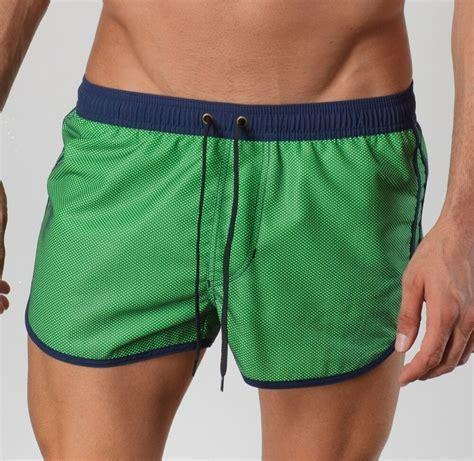short: (26, 74, 432, 388)
